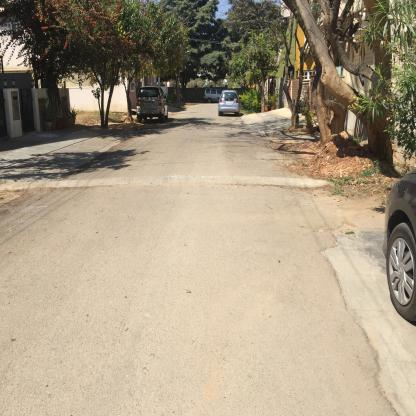speed-bumps: (0, 164, 340, 199)
